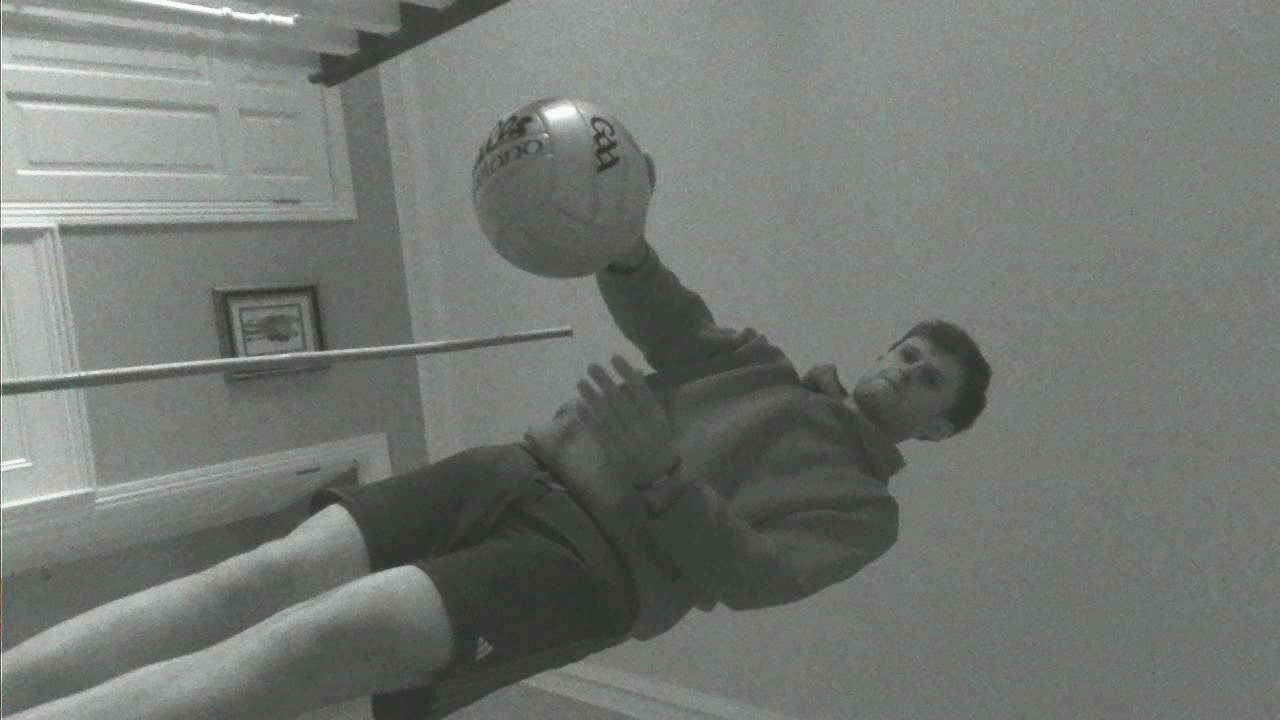Football-Spotter: (473, 98, 650, 277)
